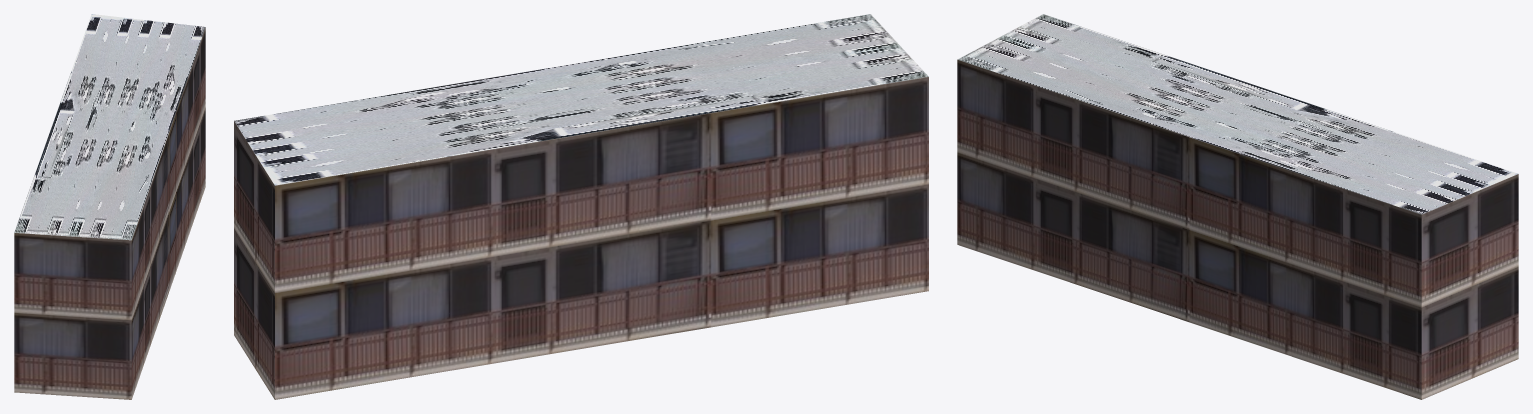
The model's file is ResTex__961.fbx.
3 renders of one model, left to right at view 1: azimuth 30°, elevation 25°; view 2: azimuth 150°, elevation 25°; view 3: azimuth 270°, elevation 25°, orthographic. The views are drawn at different scales.
Visible parts, largest first — view 1: CityEngineMaterial_6_m, CityEngineMaterial_m; view 2: CityEngineMaterial_6_m, CityEngineMaterial_m; view 3: CityEngineMaterial_6_m, CityEngineMaterial_m.
Part boxes in pixels (x1,y1,x2,y2): CityEngineMaterial_6_m: [14, 28, 205, 399]; CityEngineMaterial_m: [14, 14, 205, 240]; CityEngineMaterial_6_m: [234, 77, 928, 399]; CityEngineMaterial_m: [234, 14, 928, 185]; CityEngineMaterial_6_m: [957, 59, 1518, 399]; CityEngineMaterial_m: [957, 14, 1518, 214].
Bounding box in the file's own units: 13.95 × 6 × 16.48.
2 materials, 2 textured.
